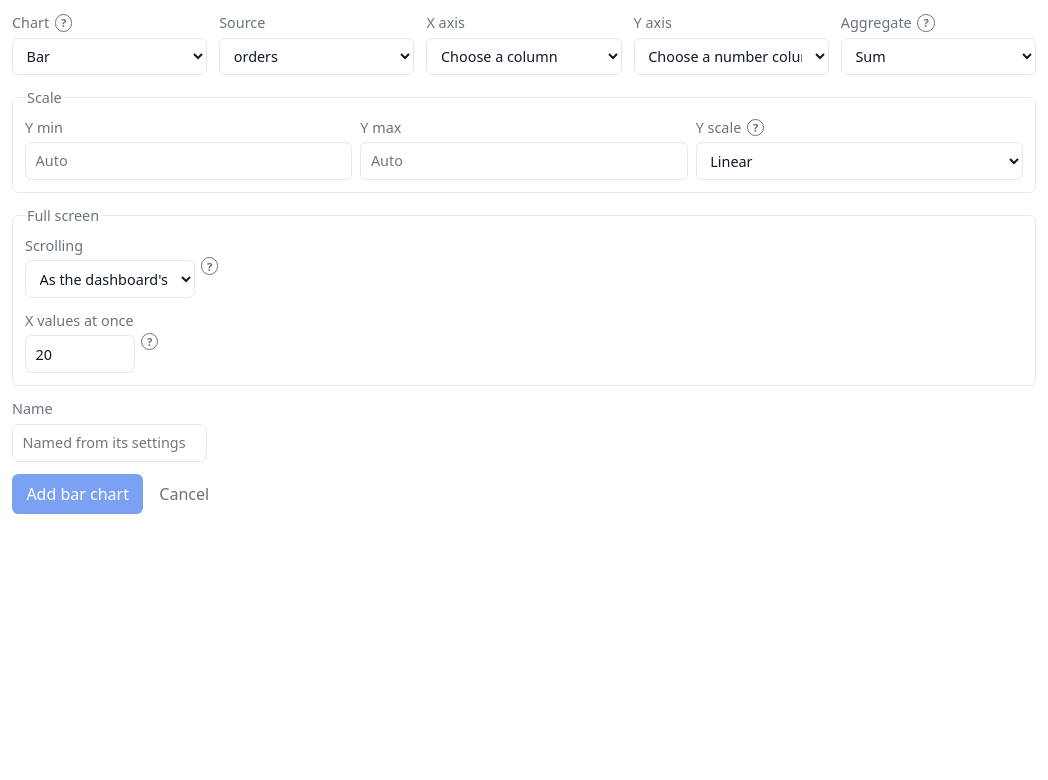
Test case: will not save a scale whose minimum is not below its maximum
Select "day" in the dropdown labelled "X axis" at (524, 56), box [426, 38, 622, 75]
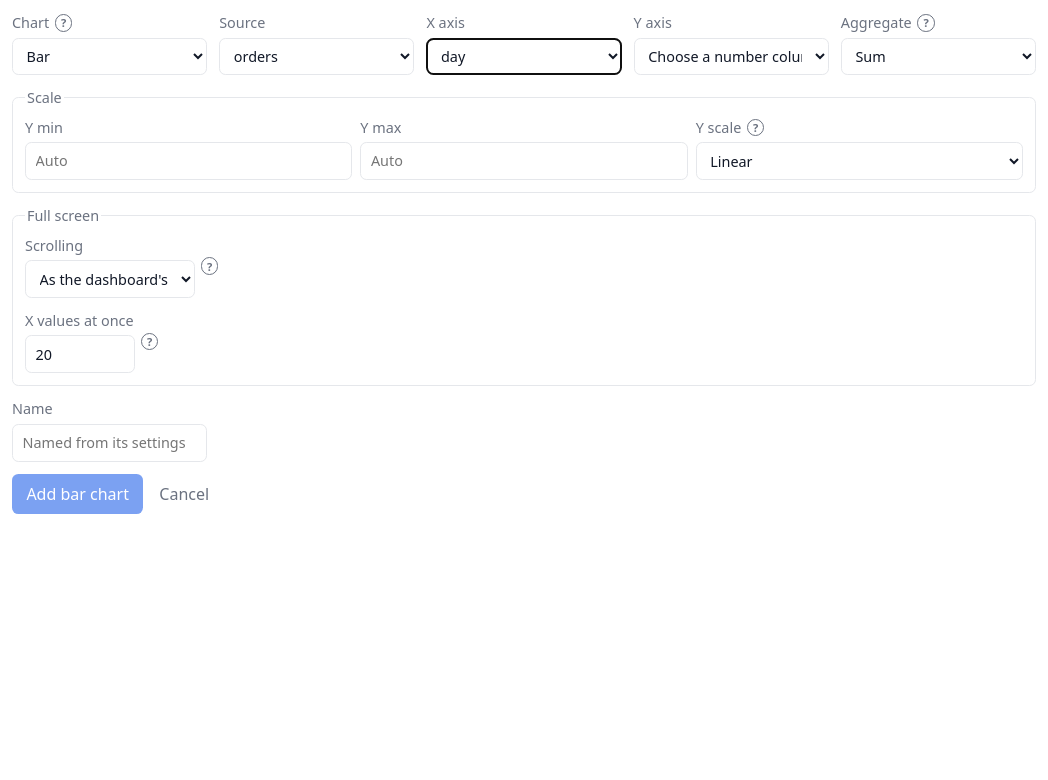
Select "Count" in the dropdown labelled "Aggregate" at (938, 56), box [841, 38, 1036, 75]
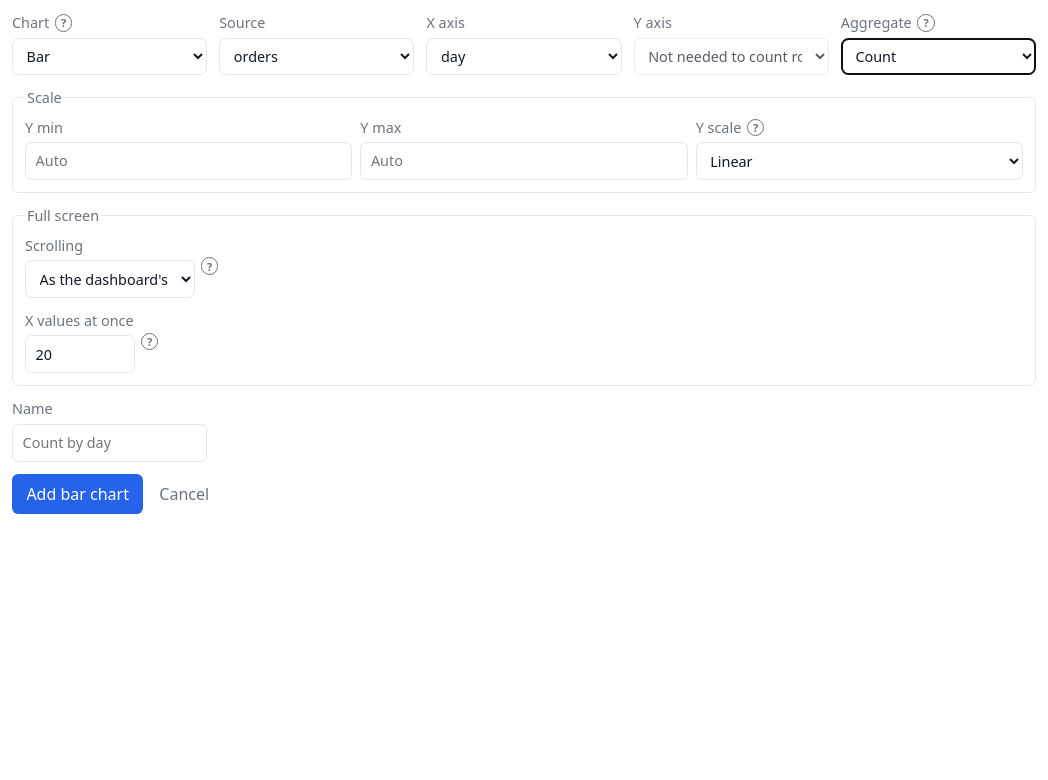
Type "10" into the number field labelled "Y min" at (189, 161), box [25, 142, 352, 180]
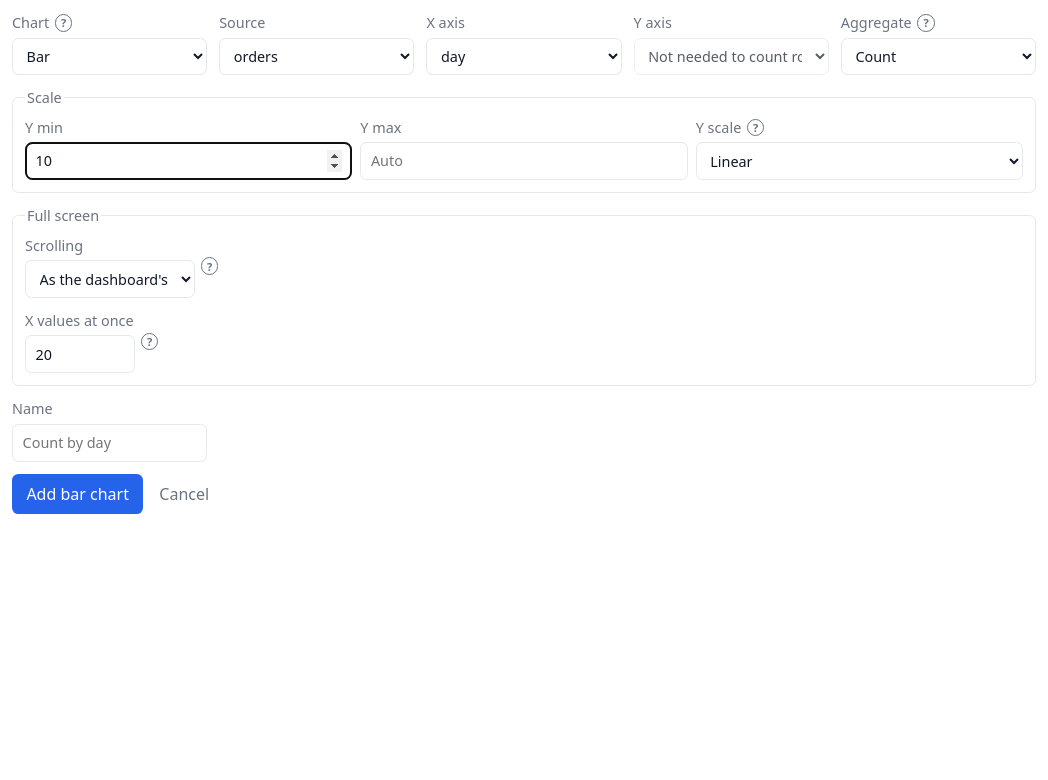
Type "5" into the number field labelled "Y max" at (524, 161), box [360, 142, 688, 180]
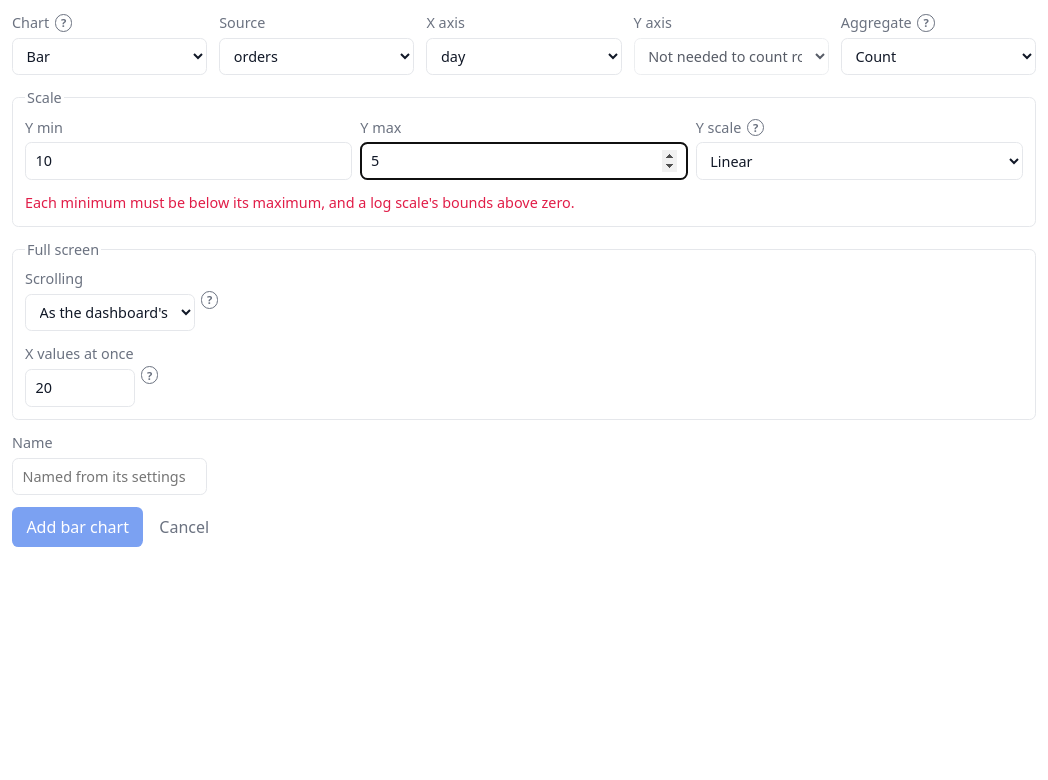
Check: the text "Each minimum must be below its maximum, and a log scale's bounds above zero." is shown, box [25, 193, 575, 212]
